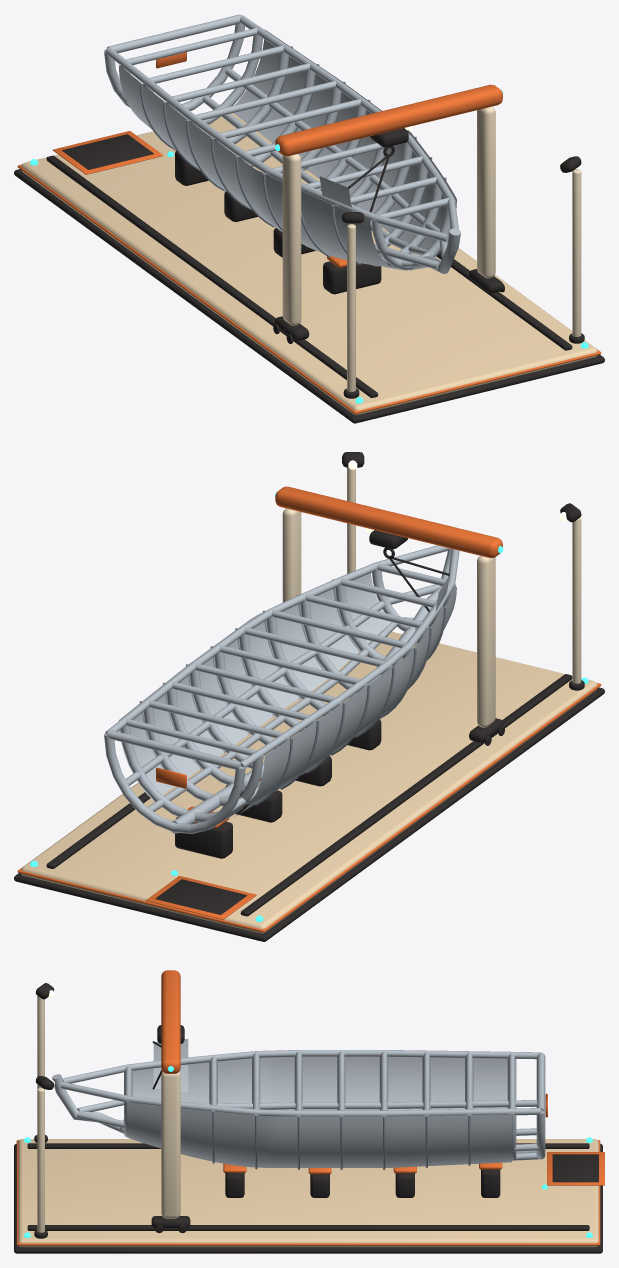
The model's file is hull-2.glb.
The picture shows the model from 3 angles, top to bottom: view 1: azimuth 30°, elevation 25°; view 2: azimuth 150°, elevation 25°; view 3: azimuth 270°, elevation 25°; orthographic projection. The views are drawn at different scales.
Parts seen in each view (by area): view 1: Cube.001, pipe, Cube, hung, Cube.017, Cube.002, pipe.030; view 2: Cube.001, pipe, hung, Cube, Cube.002, Cube.017, pipe.030; view 3: Cube.001, hung, pipe, Cube, Cube.002, Cube.017, pipe.030.
Boxes of the visible parts, <box> form: Cube.001: <box>21,113,597,415</box>; pipe: <box>104,14,460,273</box>; Cube: <box>14,128,604,423</box>; hung: <box>118,30,456,267</box>; Cube.017: <box>282,106,581,391</box>; Cube.002: <box>17,52,601,414</box>; pipe.030: <box>139,46,446,264</box>; Cube.001: <box>21,630,597,933</box>; pipe: <box>104,545,459,833</box>; hung: <box>118,573,456,816</box>; Cube: <box>14,452,604,941</box>; Cube.002: <box>17,486,601,932</box>; Cube.017: <box>282,467,581,727</box>; pipe.030: <box>139,579,446,805</box>; Cube.001: <box>18,1139,598,1247</box>; hung: <box>128,1039,511,1167</box>; pipe: <box>52,1050,545,1160</box>; Cube: <box>14,983,602,1253</box>; Cube.002: <box>16,970,604,1245</box>; Cube.017: <box>37,996,180,1232</box>; pipe.030: <box>212,1111,470,1169</box>.
Size of the model in its own units: 1.3 by 1.06 by 3.05.
